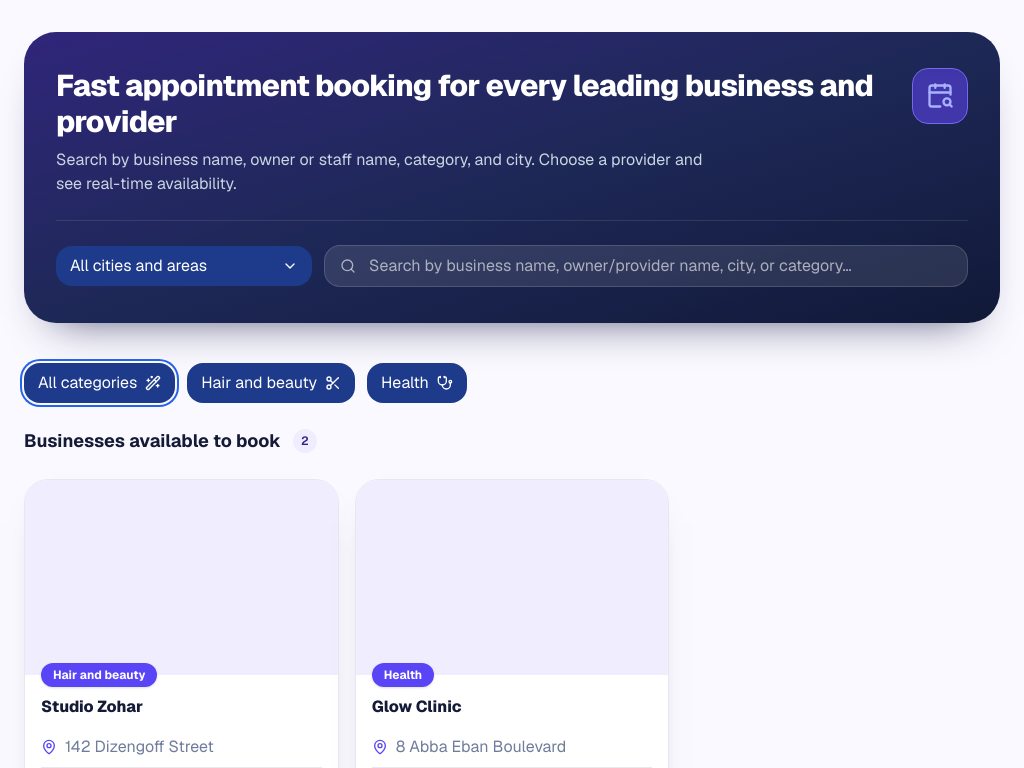
discovery search › shows the "no match" wording only once a search excluded everything
Expected: the text "No businesses match the search you ran" is not shown
Replace the text in the search field with "nothing-matches-this" at coordinates (646, 266), box [324,245,968,287]
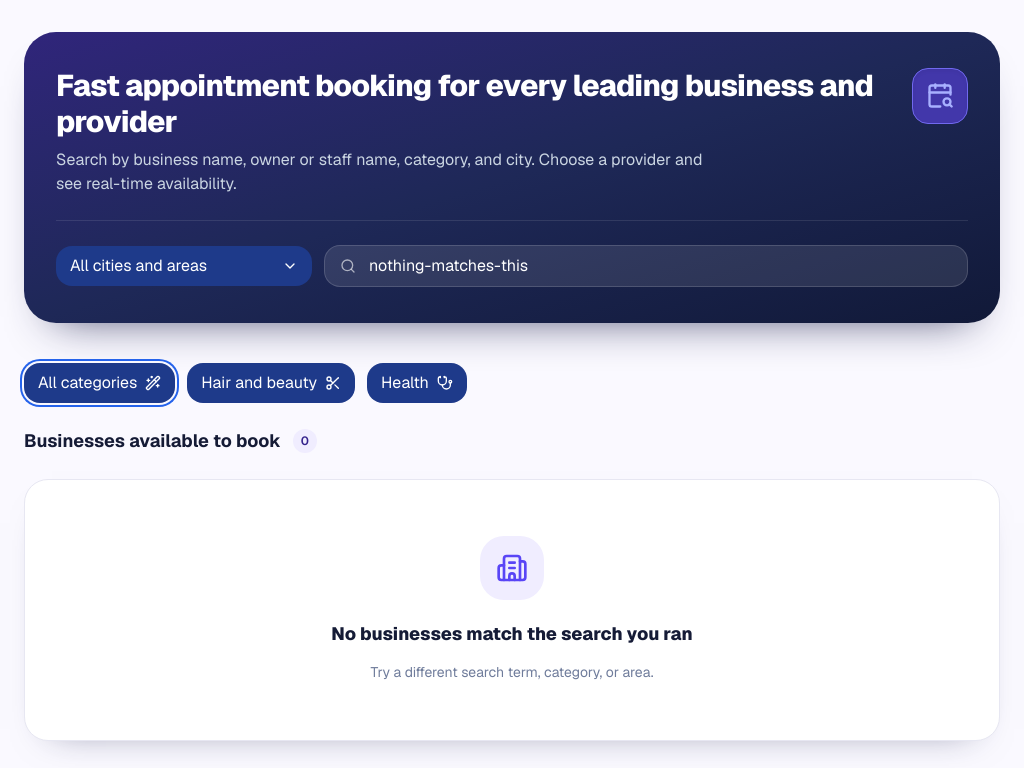
Result: the heading "No businesses match the search you ran" is shown at [331,620,693,648]
